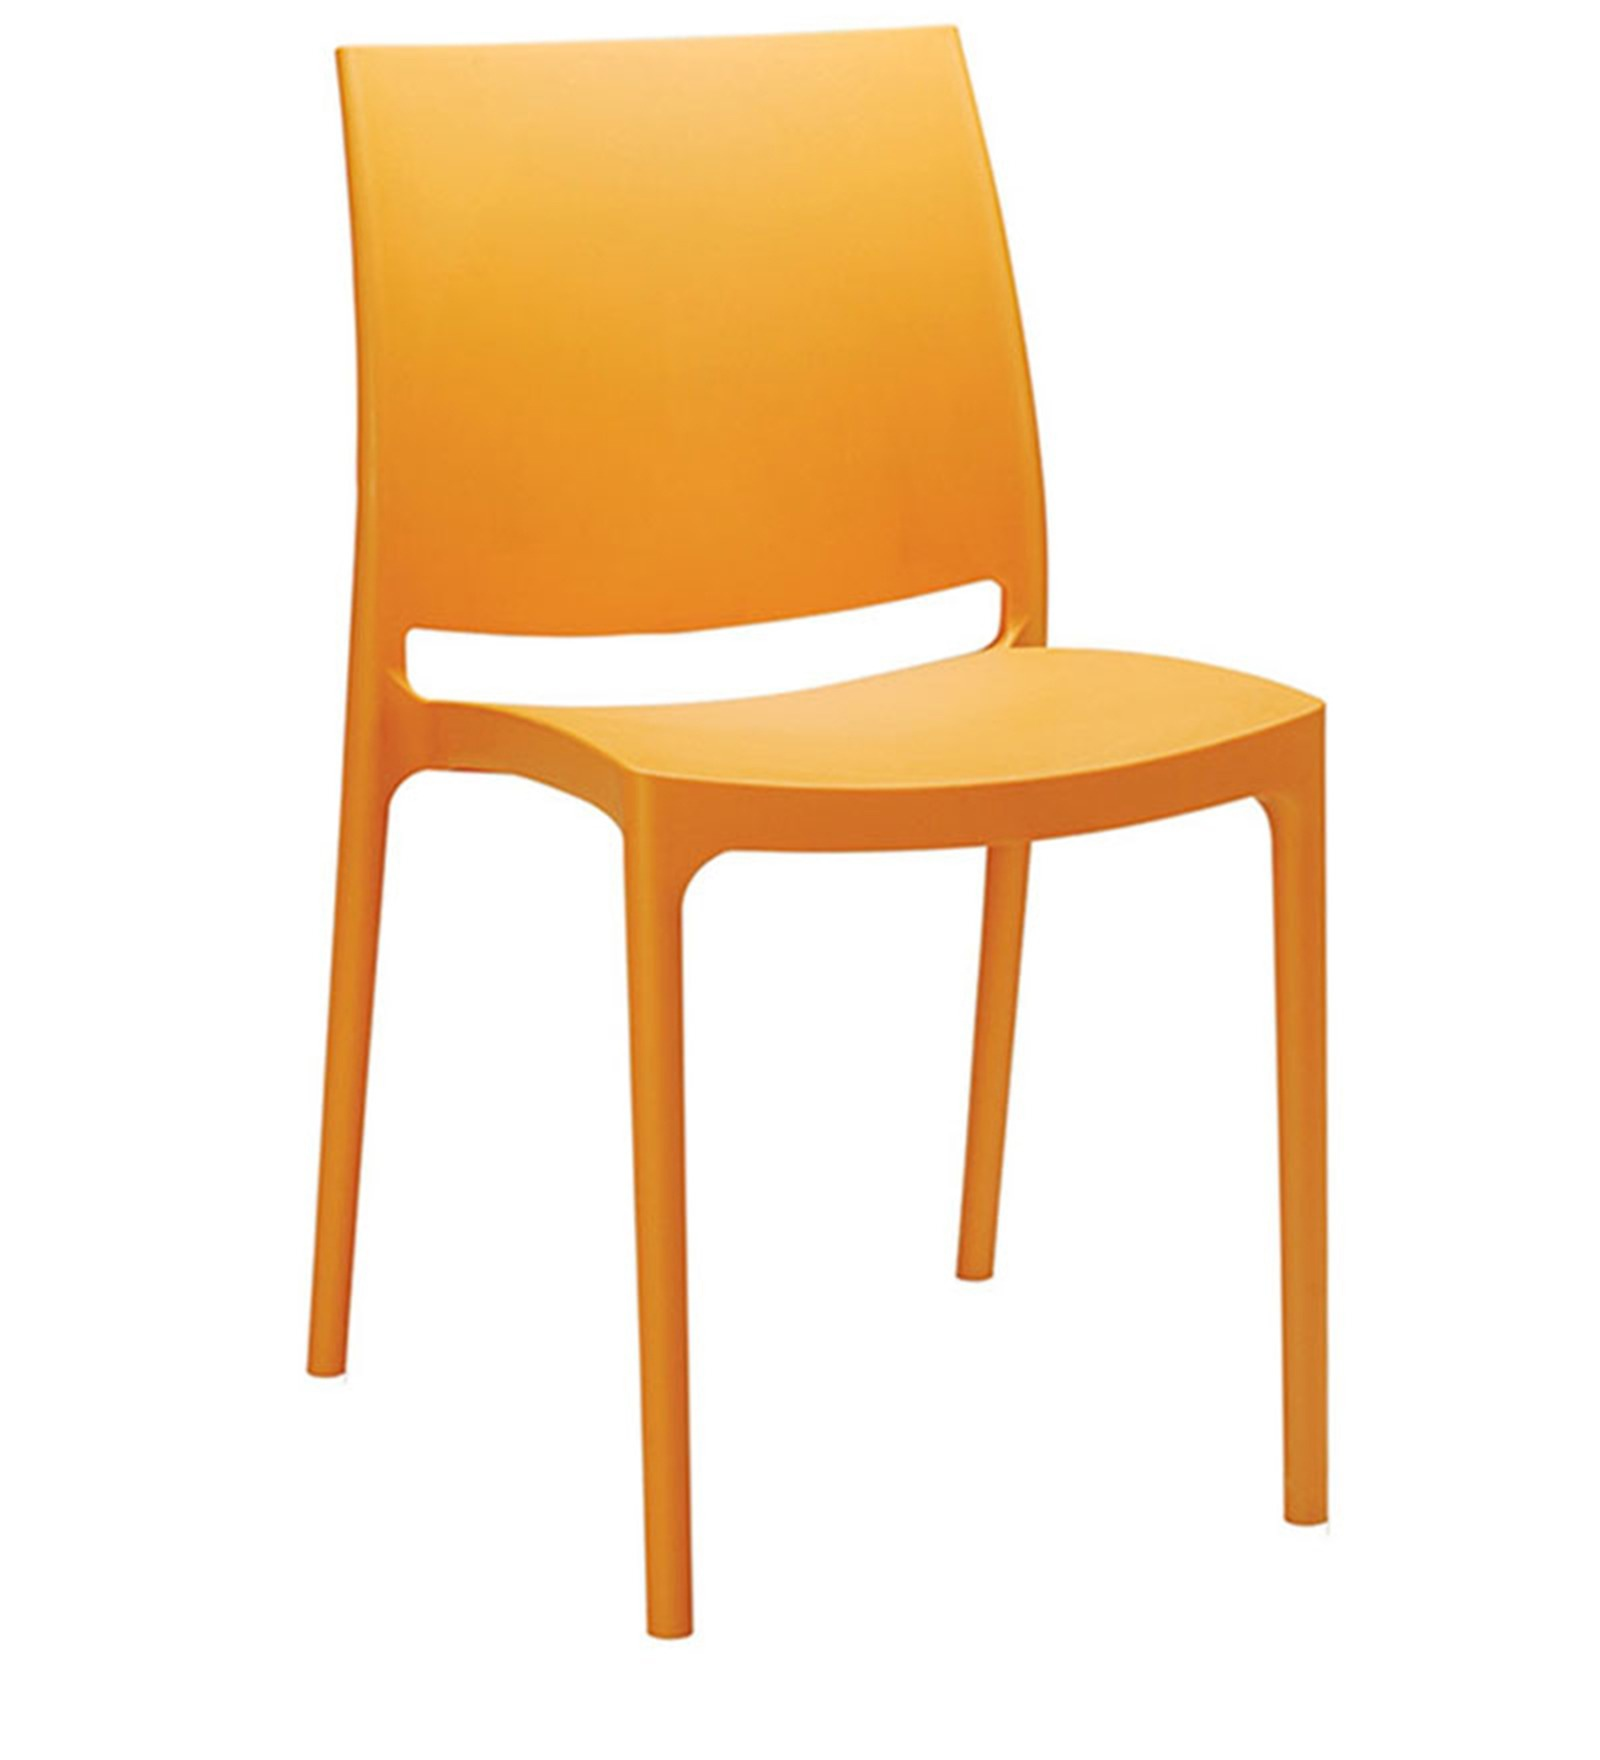Novella Chair in Orange Colour by Nilkamal: (311, 37, 1339, 1640)
